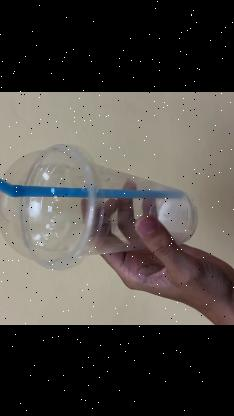Others: (0, 141, 197, 269)
